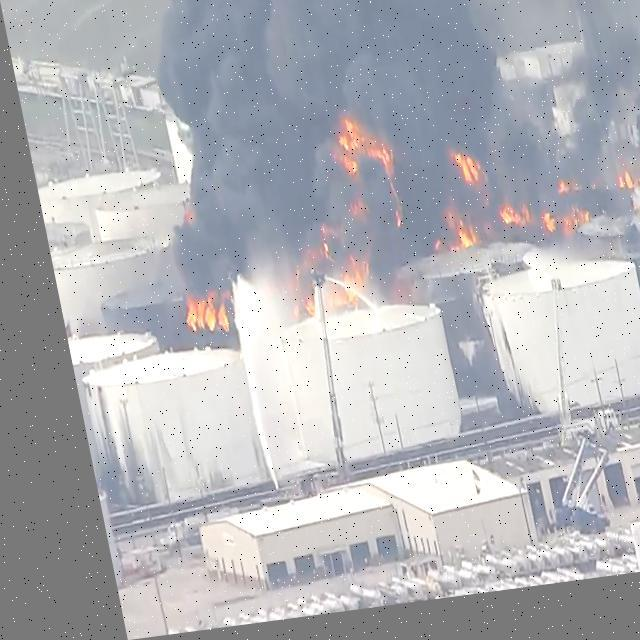Fire: (304, 110, 398, 236), (259, 256, 360, 335), (519, 192, 588, 262), (162, 290, 234, 356), (406, 218, 472, 282), (440, 143, 482, 214), (597, 170, 639, 219), (484, 206, 519, 246)
